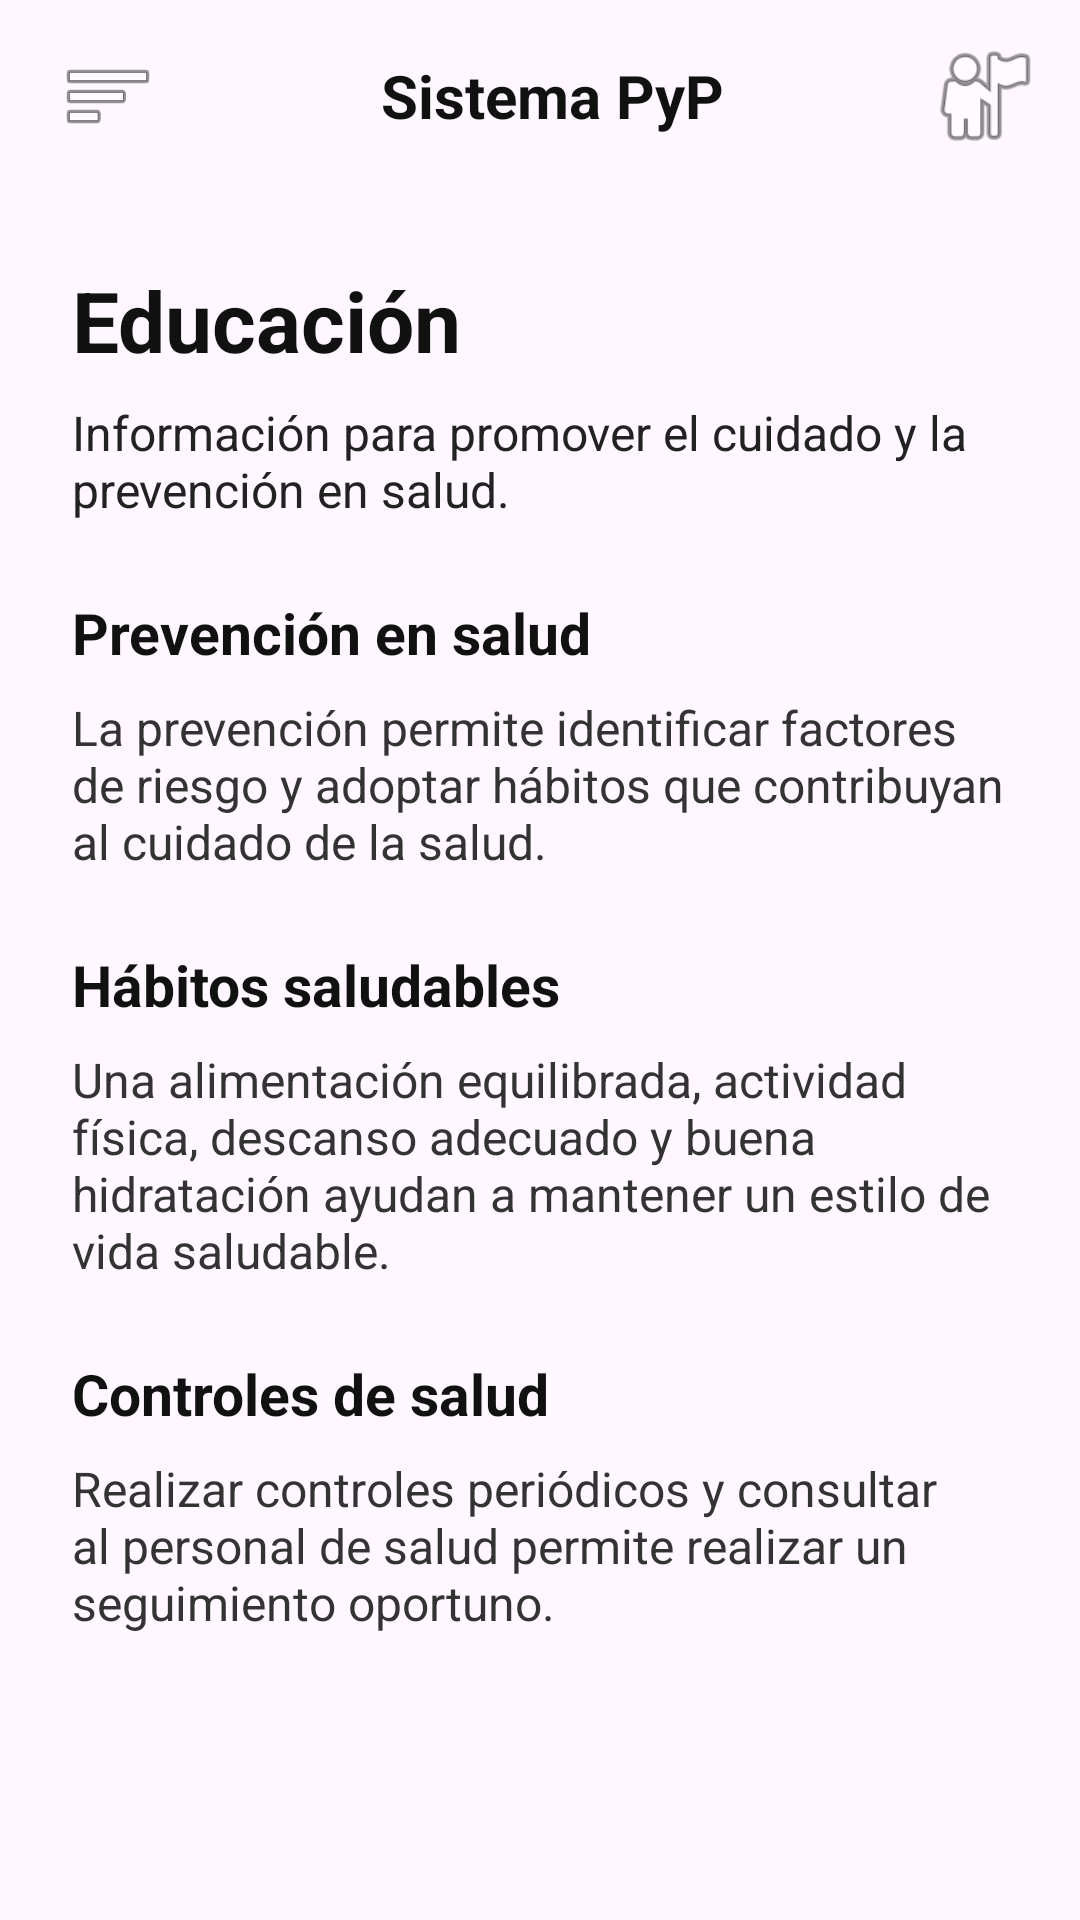

Named icons in this screenshot (1080px×1920px) and their bounding boxes, (x1, y1, x2, y2):
Abrir menú: (67, 70, 149, 123)
Perfil: (940, 51, 1030, 141)
